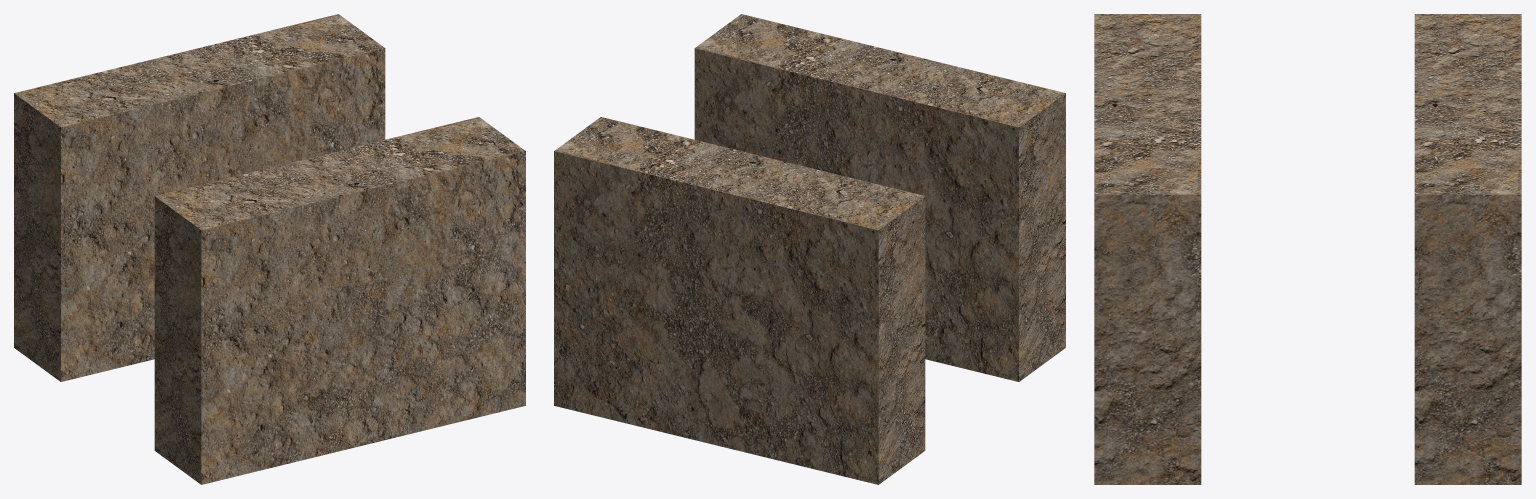
The model's file is wall_parallel.dae.
3 renders of one model, left to right at view 1: azimuth 30°, elevation 25°; view 2: azimuth 150°, elevation 25°; view 3: azimuth 270°, elevation 25°, orthographic. The views are drawn at different scales.
Parts seen in each view (by area): view 1: pCube2, pCube1; view 2: pCube1, pCube2; view 3: pCube2, pCube1.
Boxes of the visible parts, x1,y1,x2,y2 form: pCube2: (154, 117, 525, 484); pCube1: (14, 14, 385, 381); pCube1: (554, 117, 925, 484); pCube2: (694, 14, 1065, 381); pCube2: (1094, 14, 1201, 484); pCube1: (1414, 14, 1521, 484).
Bounding box in the file's own units: 8 × 6 × 8.
